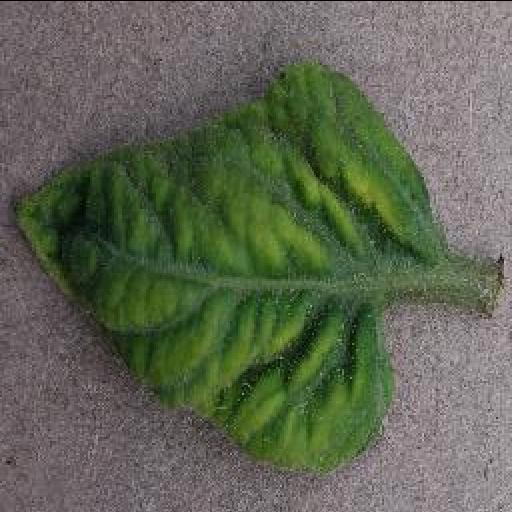disease_tomato: (12, 65, 446, 475)
